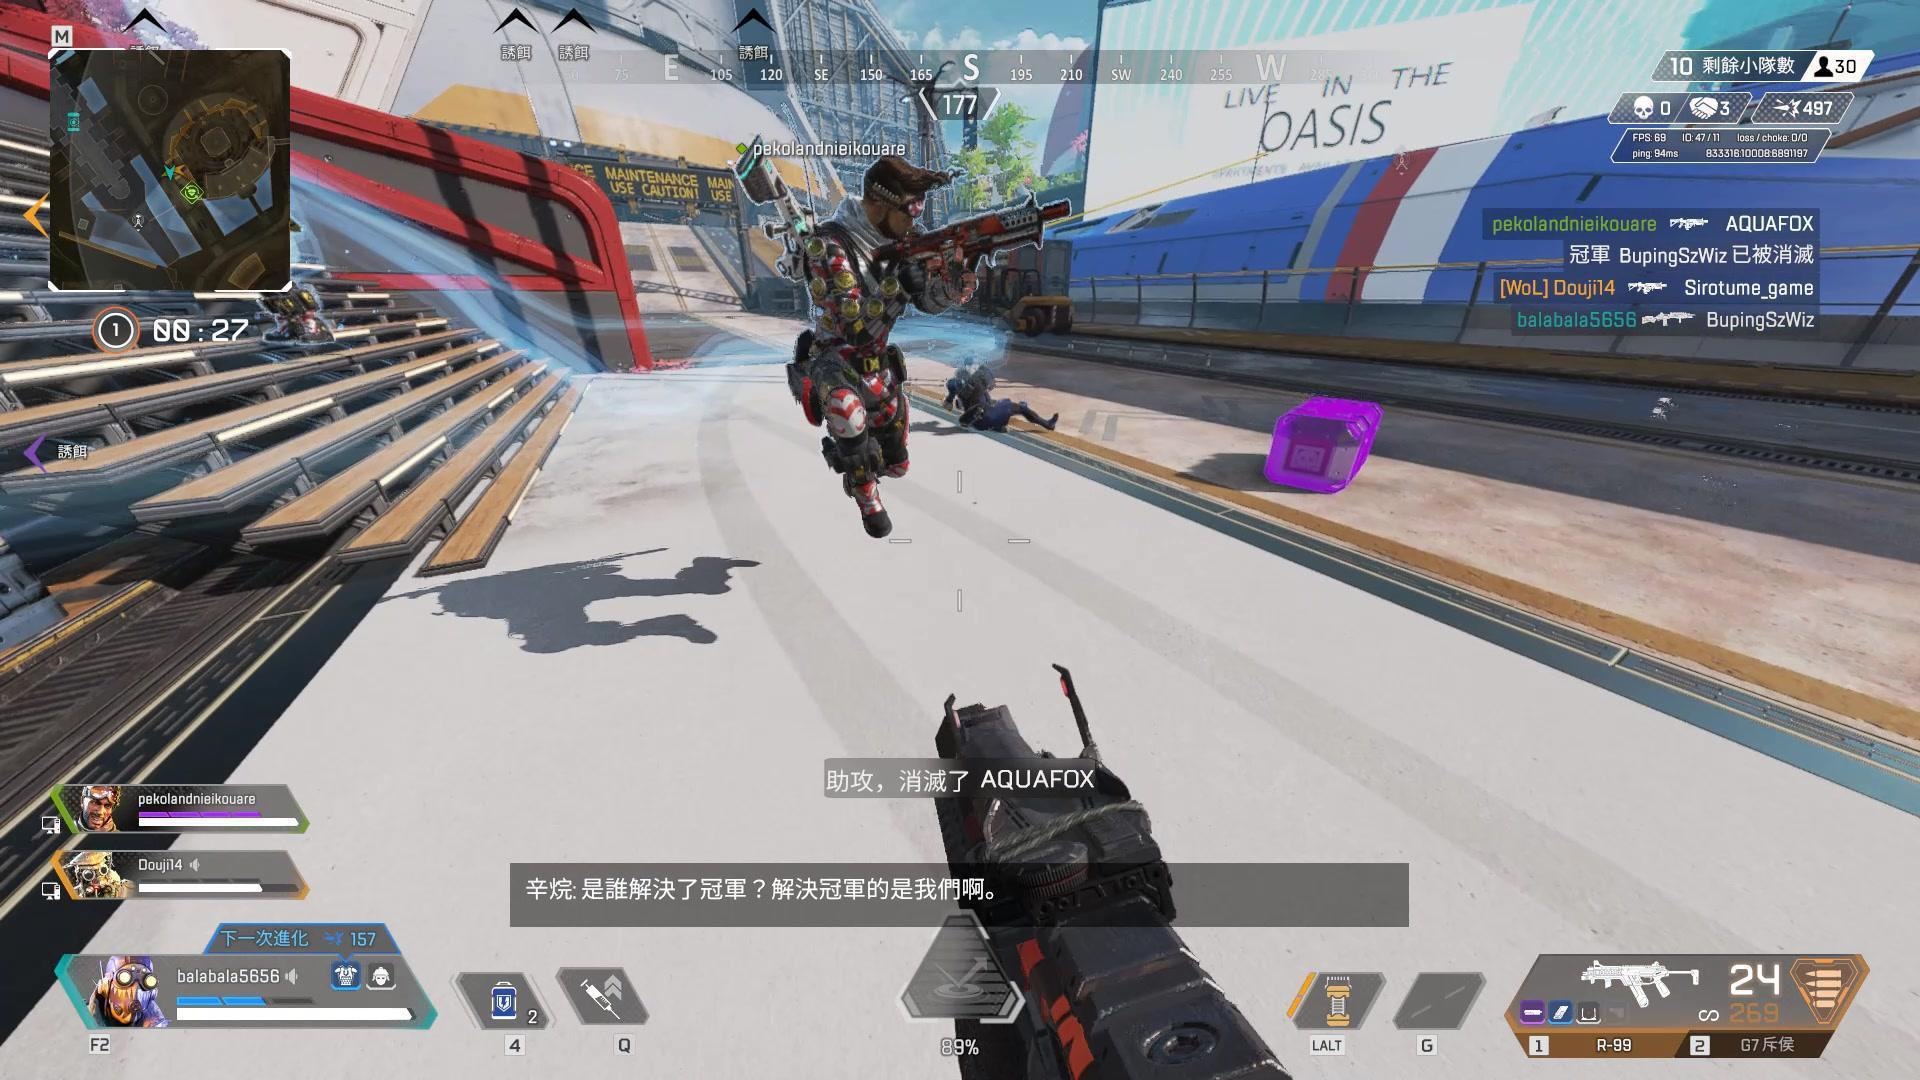avatar: (786, 155, 927, 544)
